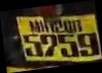character: (76, 32, 100, 56), (57, 32, 79, 57), (22, 33, 43, 56), (40, 33, 58, 57)
